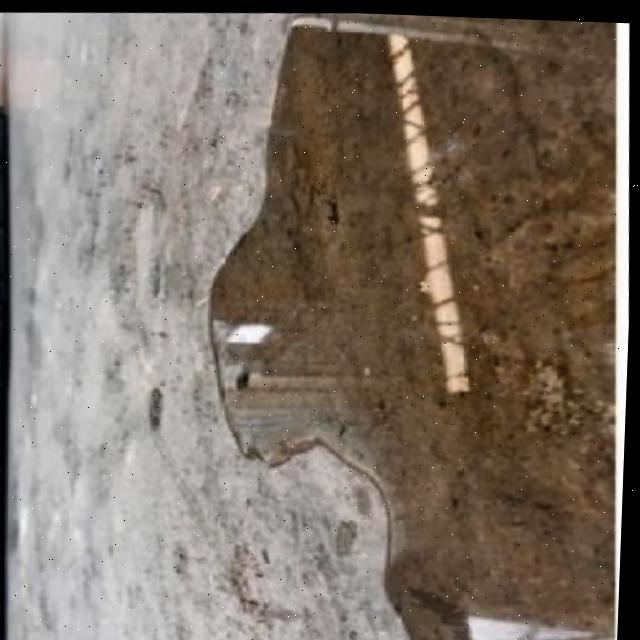spillage: (213, 9, 620, 640)
